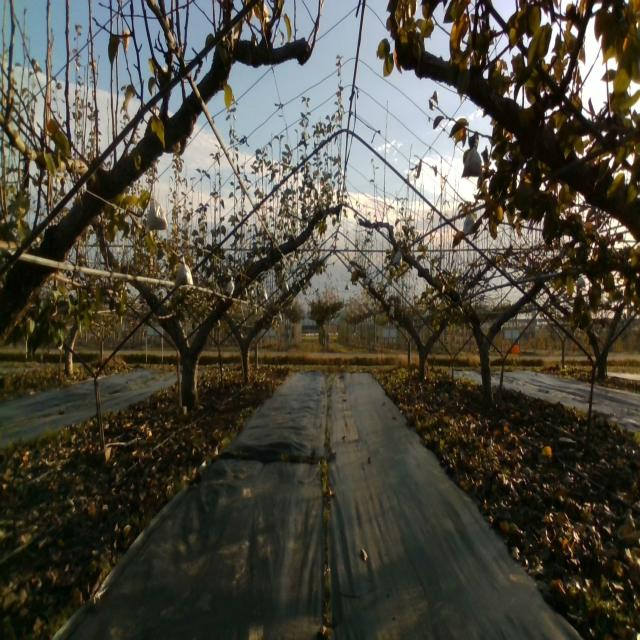pearbags: (461, 138, 483, 180), (144, 198, 168, 233), (174, 256, 194, 289), (463, 213, 475, 236)
